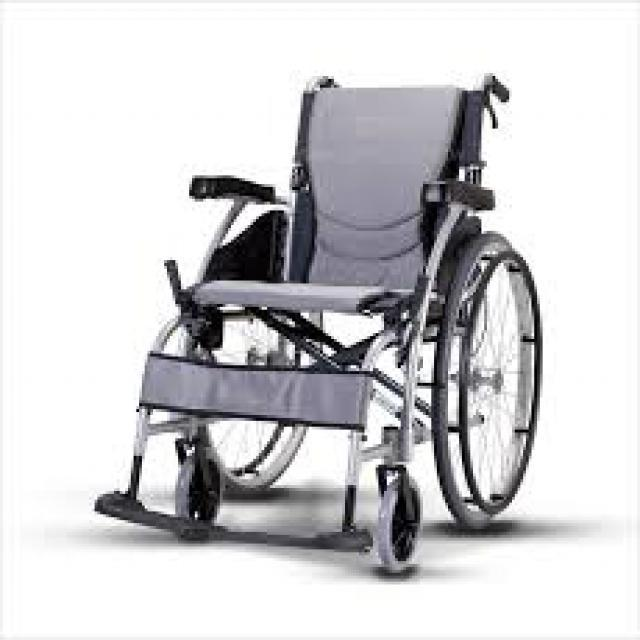wheelchair: (75, 61, 579, 584)
